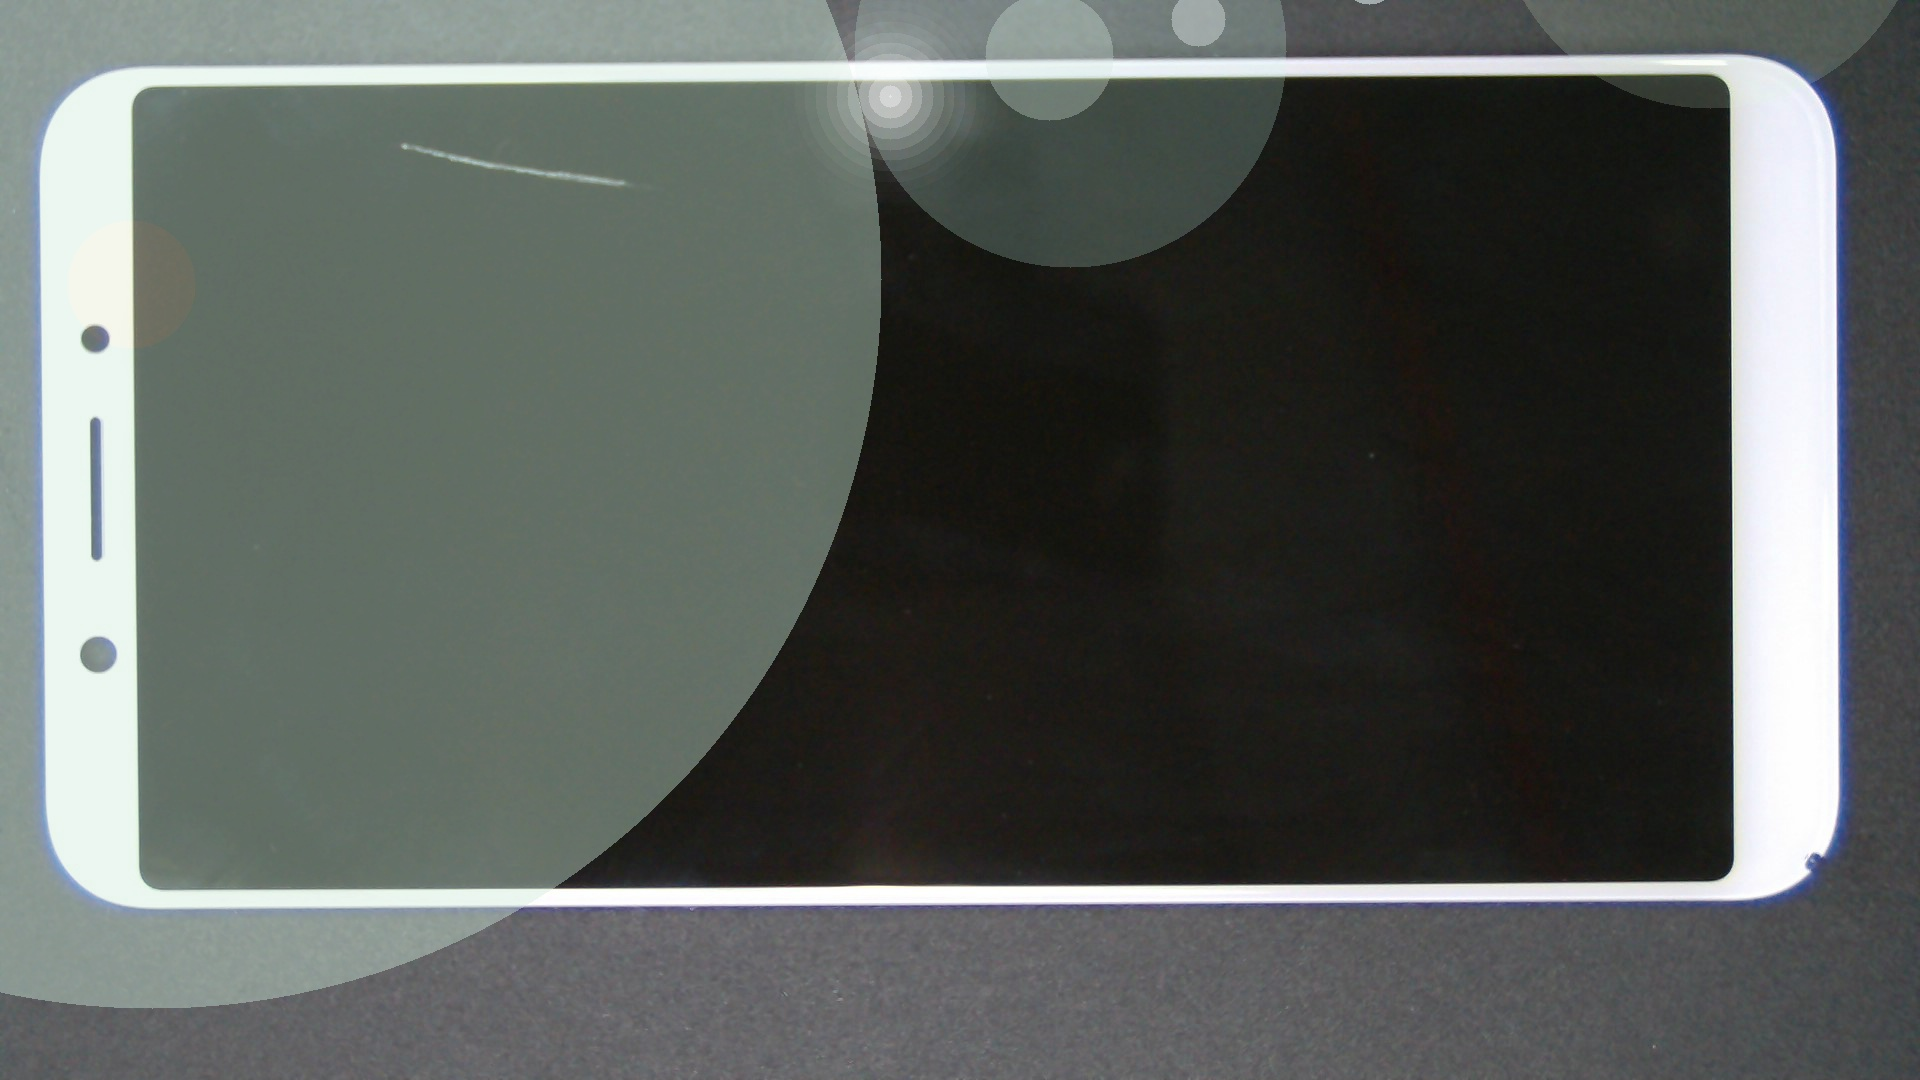oil: (203, 70, 607, 214)
